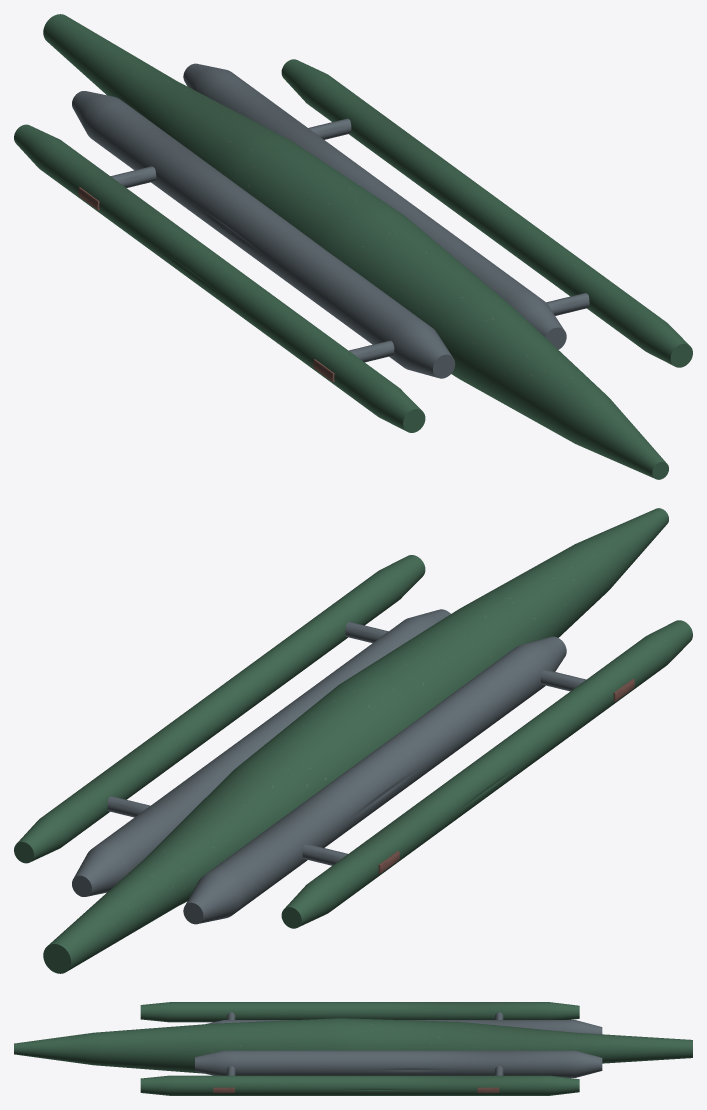
3 renders of one model, top to bottom at view 1: azimuth 30°, elevation 25°; view 2: azimuth 150°, elevation 25°; view 3: azimuth 270°, elevation 25°, orthographic. The views are drawn at different scales.
Parts seen in each view (by area): view 1: Mikotaj Shri-Merl green central spine, Mikotaj Shri-Merl grey left casing, Mikotaj Shri-Merl green right side rail, Mikotaj Shri-Merl green left side rail, Mikotaj Shri-Merl grey right casing; view 2: Mikotaj Shri-Merl green central spine, Mikotaj Shri-Merl grey left casing, Mikotaj Shri-Merl green right side rail, Mikotaj Shri-Merl green left side rail, Mikotaj Shri-Merl grey right casing; view 3: Mikotaj Shri-Merl green central spine, Mikotaj Shri-Merl grey right casing, Mikotaj Shri-Merl green right side rail, Mikotaj Shri-Merl green left side rail, Mikotaj Shri-Merl grey left casing.
Part boxes in pixels (x1,y1,x2,y2): Mikotaj Shri-Merl green central spine: (43, 14, 668, 479); Mikotaj Shri-Merl grey left casing: (72, 91, 455, 378); Mikotaj Shri-Merl green right side rail: (281, 59, 692, 367); Mikotaj Shri-Merl green left side rail: (14, 124, 425, 432); Mikotaj Shri-Merl grey right casing: (183, 63, 566, 349); Mikotaj Shri-Merl green central spine: (43, 508, 668, 973); Mikotaj Shri-Merl grey left casing: (183, 636, 566, 924); Mikotaj Shri-Merl green right side rail: (14, 555, 425, 863); Mikotaj Shri-Merl green left side rail: (281, 620, 692, 928); Mikotaj Shri-Merl grey right casing: (72, 609, 450, 896); Mikotaj Shri-Merl green central spine: (14, 1018, 692, 1073); Mikotaj Shri-Merl grey right casing: (195, 1050, 602, 1077); Mikotaj Shri-Merl green right side rail: (140, 1075, 579, 1095); Mikotaj Shri-Merl green left side rail: (140, 1002, 579, 1022); Mikotaj Shri-Merl grey left casing: (205, 1020, 602, 1034).
Bounding box in the file's own units: 0.542 × 0.1888 × 1.88.
5 materials, 3 textured.
